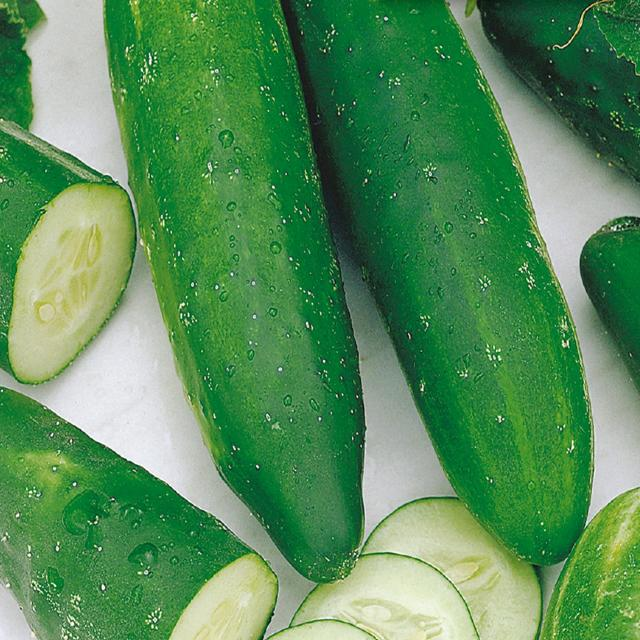Pickle: (284, 0, 594, 565), (105, 0, 365, 582), (0, 389, 254, 639), (0, 119, 135, 384), (0, 2, 39, 121)
